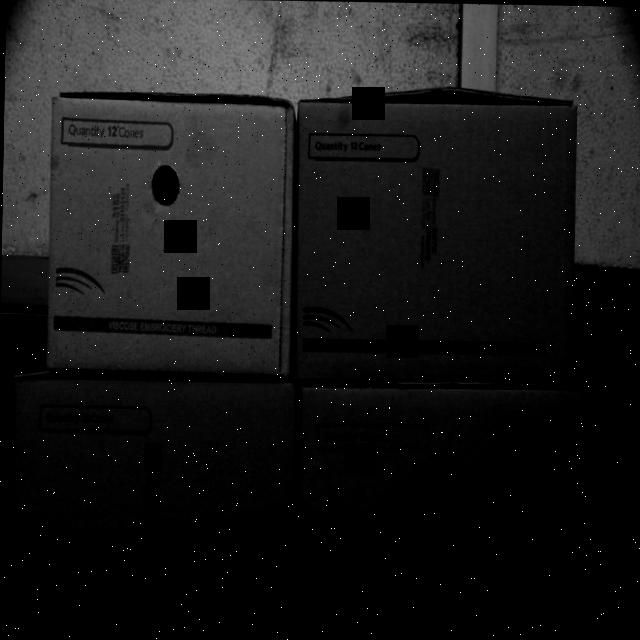box: (293, 90, 581, 382), (10, 374, 297, 636), (297, 385, 580, 640), (44, 98, 294, 380)
